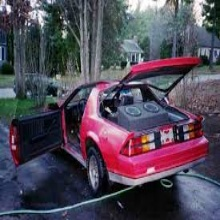no damage: (9, 55, 212, 195)
